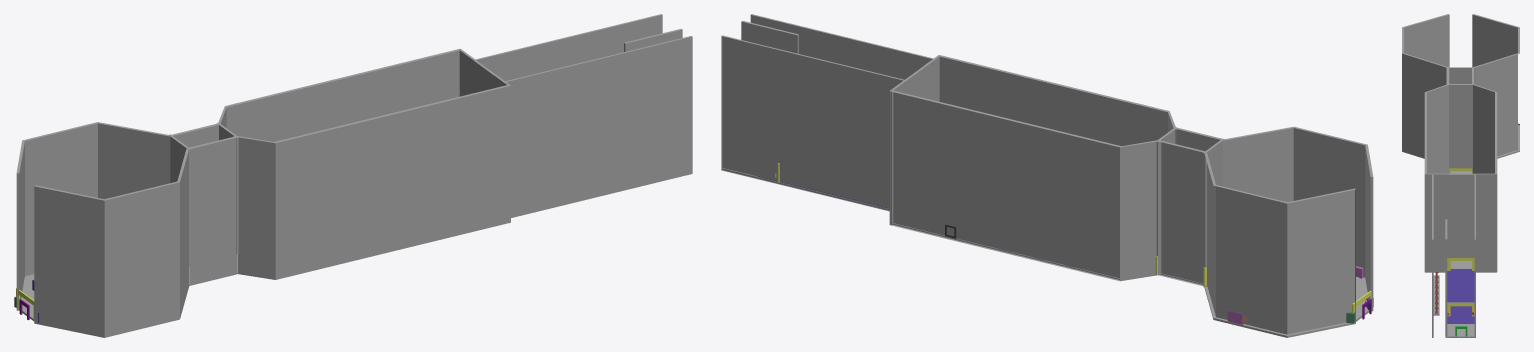
The model's file is Floor -1 Level 3.fbx.
3 renders of one model, left to right at view 1: azimuth 30°, elevation 25°; view 2: azimuth 150°, elevation 25°; view 3: azimuth 270°, elevation 25°, orthographic. The views are drawn at different scales.
Visible parts, largest first — view 1: pCube141, pCube129, pCube145, pCube140, pCube144, pCube239, pCube139, pCube142, pCube146, pCube237, pCube238; view 2: pCube141, pCube129, pCube144, pCube139, pCube145, pCube146, pCube239, pCube142, pCube140, pCube143, pCube237, pCube127 (+1 smaller); view 3: pCube129, pCube141, pCube237, pCube142, pCube143, pCube238, travelator18, pCube239, pCube125, pCube146, pCube145, pCube144 (+4 smaller).
Part boxes in pixels (x1,y1,x2,y2): pCube141: [218, 49, 510, 279]; pCube129: [16, 122, 189, 337]; pCube145: [505, 36, 692, 217]; pCube140: [188, 136, 237, 285]; pCube144: [475, 14, 662, 81]; pCube239: [169, 134, 190, 266]; pCube139: [171, 123, 219, 147]; pCube142: [459, 49, 475, 96]; pCube146: [624, 28, 682, 51]; pCube237: [473, 60, 494, 92]; pCube238: [217, 123, 238, 254]; pCube141: [890, 55, 1176, 281]; pCube129: [1204, 126, 1373, 337]; pCube144: [721, 35, 904, 211]; pCube139: [1158, 140, 1205, 285]; pCube145: [750, 14, 933, 79]; pCube146: [741, 20, 798, 53]; pCube239: [1203, 138, 1224, 267]; pCube142: [889, 80, 906, 225]; pCube140: [1176, 127, 1222, 151]; pCube143: [924, 55, 940, 101]; pCube237: [905, 66, 926, 98]; pCube127: [892, 223, 1119, 279]; pCube129: [1402, 14, 1519, 158]; pCube141: [1424, 84, 1497, 271]; pCube237: [1446, 173, 1474, 257]; pCube142: [1475, 173, 1496, 272]; pCube143: [1425, 173, 1446, 272]; pCube238: [1446, 84, 1475, 168]; travelator18: [1447, 269, 1474, 323]; pCube239: [1446, 67, 1475, 83]; pCube125: [1446, 324, 1475, 337]; pCube146: [1445, 219, 1447, 337]; pCube145: [1432, 174, 1433, 337]; pCube144: [1474, 174, 1475, 337].
Bounding box in the file's own units: 164 × 33.16 × 35.94.
